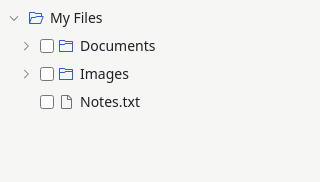
FileTree › clicking a folder chevron shows its children, and clicking again hides them
Click the button named "Expand Documents". click: (26, 46)
box: [16,36,36,56]
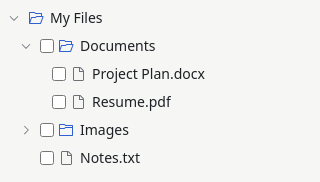
Now the text "Resume.pdf" is shown, box [92,90,171,114]
Now the text "Project Plan.docx" is shown, box [92,62,205,86]
Click the button named "Collapse Documents". click: (26, 46)
box: [16,36,36,56]
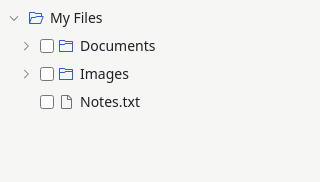
Now the button "Resume.pdf" is gone
Now the button "Project Plan.docx" is gone
